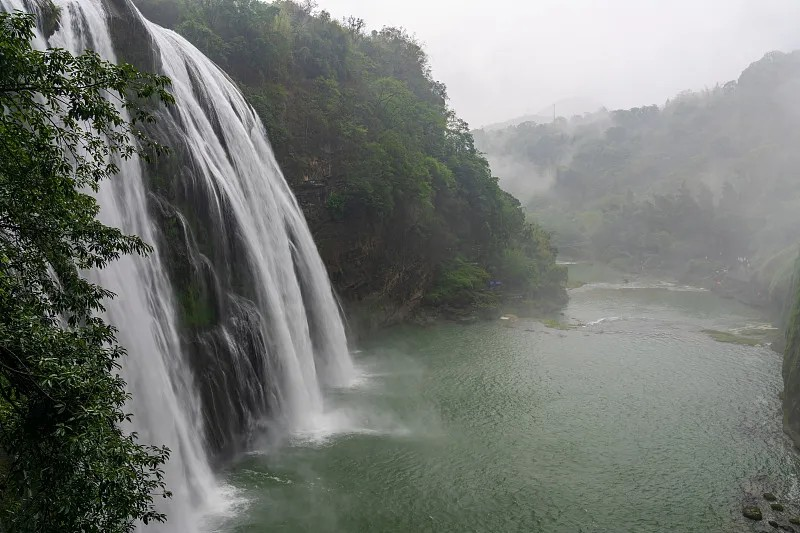Huangguoshu: (3, 1, 358, 533)
